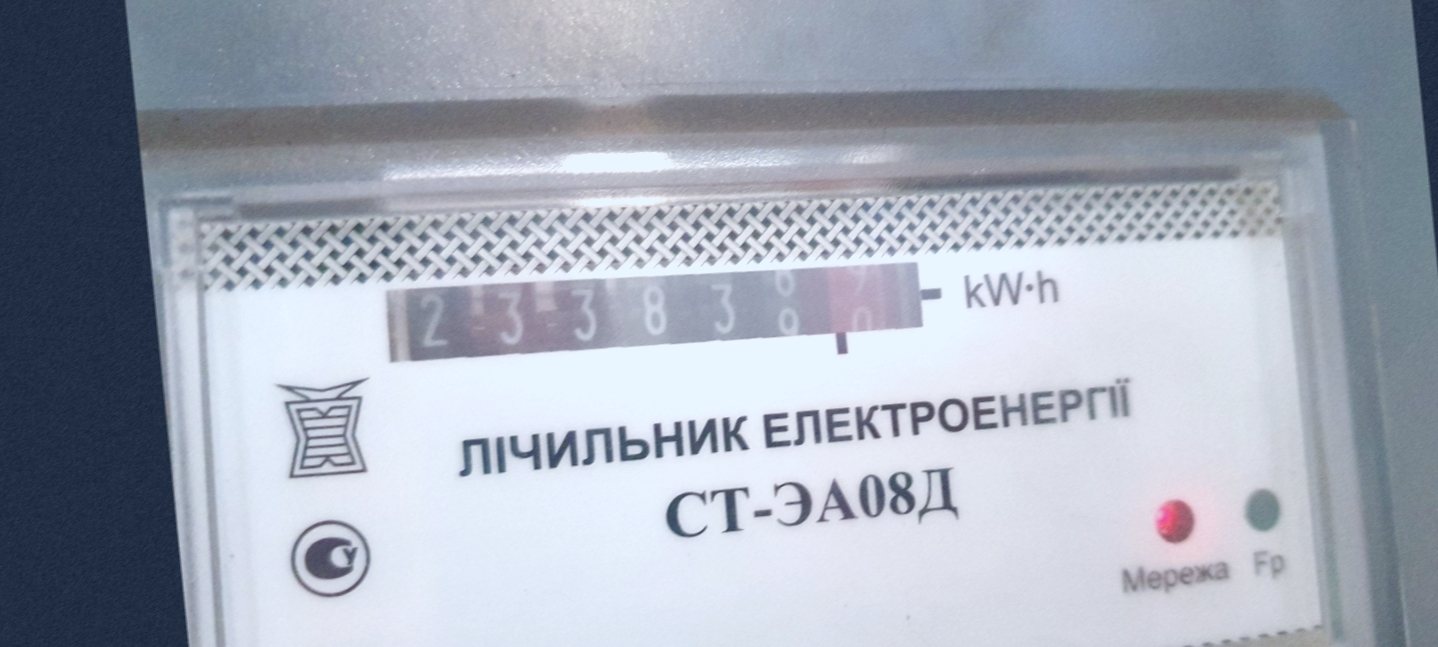0: (847, 302, 877, 338)
2: (412, 287, 456, 351)
3: (563, 280, 605, 347), (494, 286, 527, 347), (707, 276, 741, 335)
8: (635, 278, 674, 339), (771, 264, 800, 298)
9: (841, 258, 875, 299), (774, 302, 805, 341)
screen: (353, 213, 958, 426)
